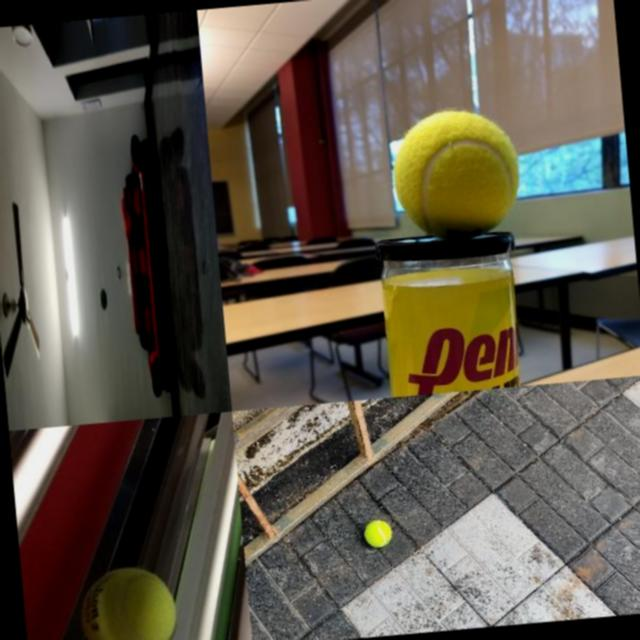tennis-ball: (386, 102, 526, 243), (74, 562, 180, 640), (362, 518, 392, 548), (100, 287, 108, 311)
